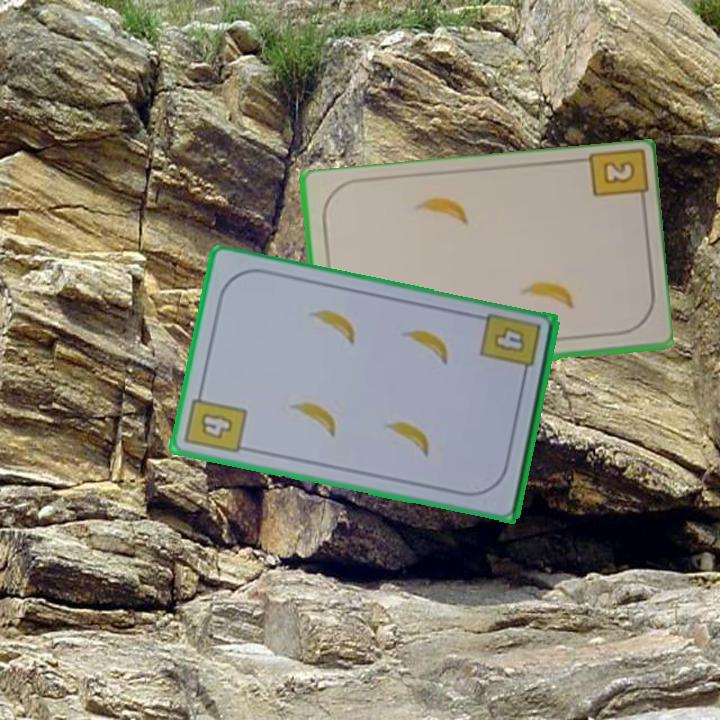2b: (582, 148, 648, 214)
4b: (181, 385, 250, 457), (477, 310, 544, 383)
